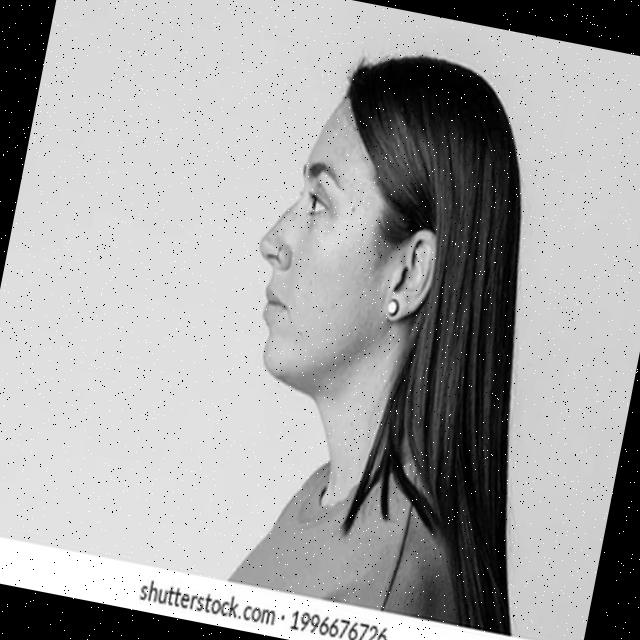Neutral: (235, 90, 424, 396)
